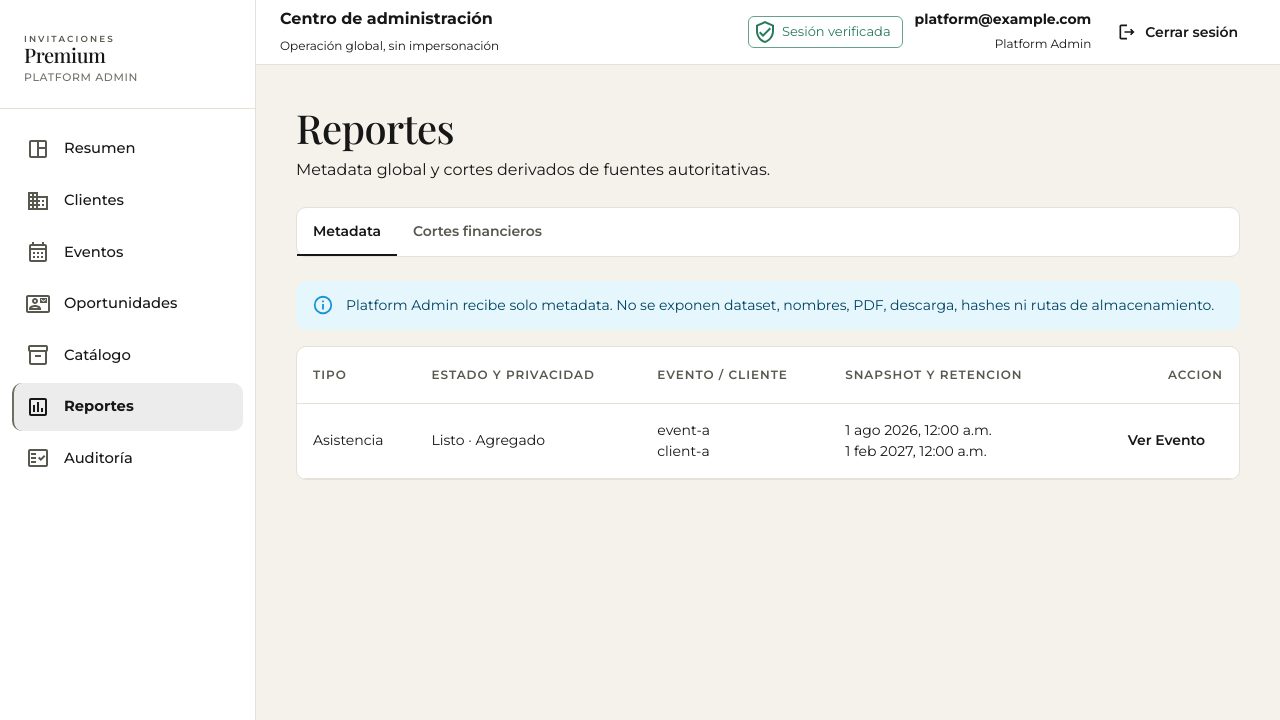
it: reportes administrativos › muestra solo metadata y los cortes exactos sin parametros
Expected: the text "Asistencia" is shown, [297,403,416,478]
Expected: the text "No se exponen dataset, nombres, PDF, descarga, hashes" is shown, [346,296,1214,314]
Step 1. Click the tab "Cortes financieros" → (477, 232), box [397,208,558,256]
(page scrolled)
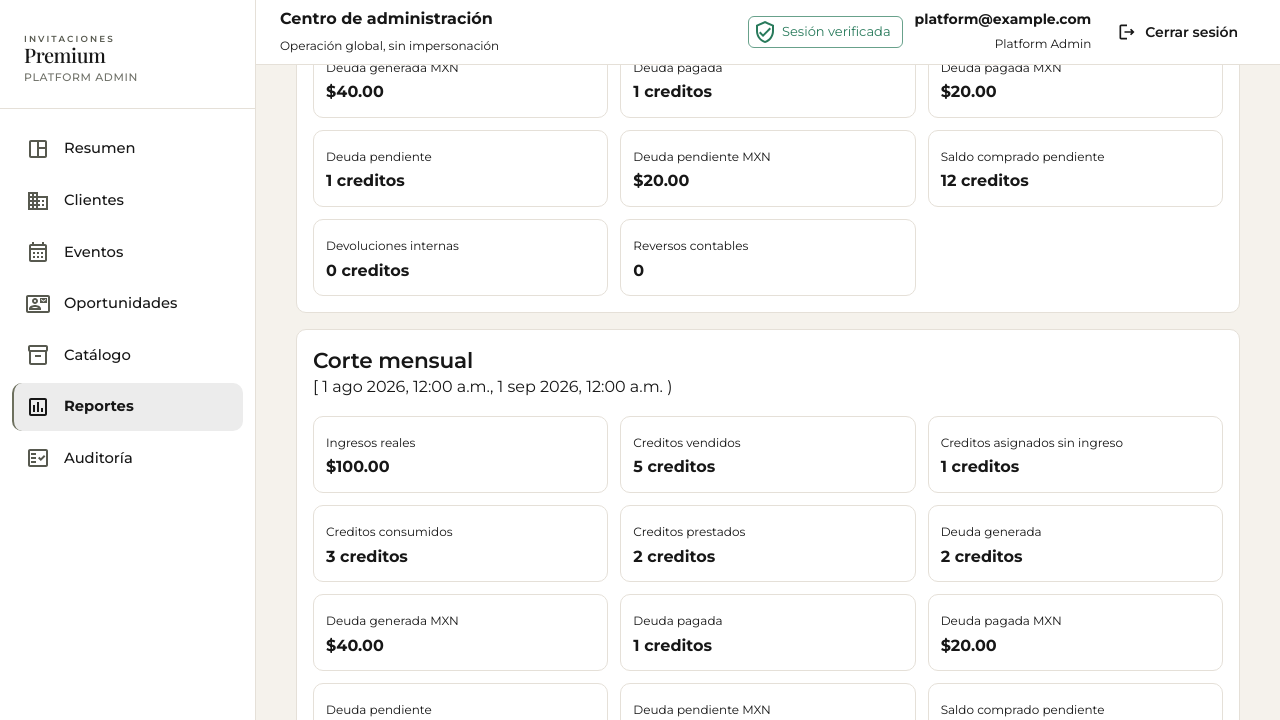
Expected: the heading "Corte mensual" is shown, [313,347,473,373]
